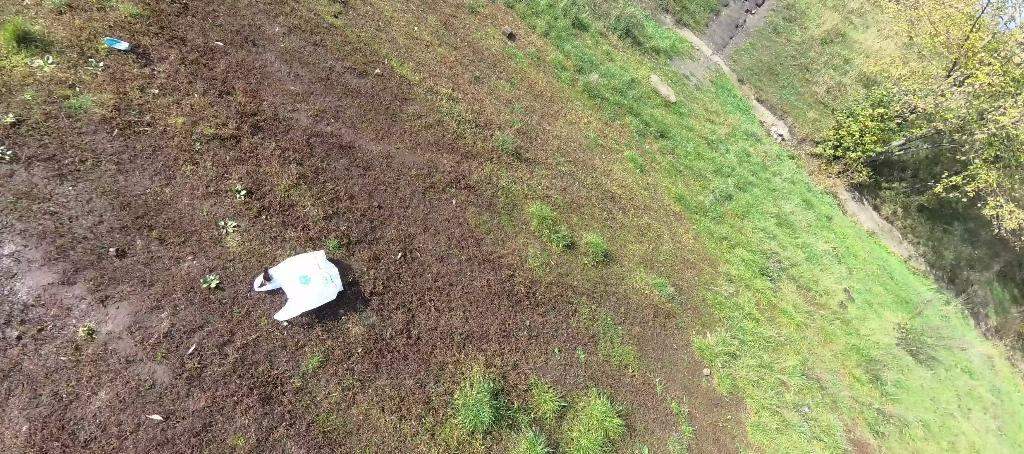garbage: (250, 246, 346, 323), (252, 248, 345, 323), (104, 35, 131, 51), (261, 267, 272, 286), (499, 24, 514, 37)
